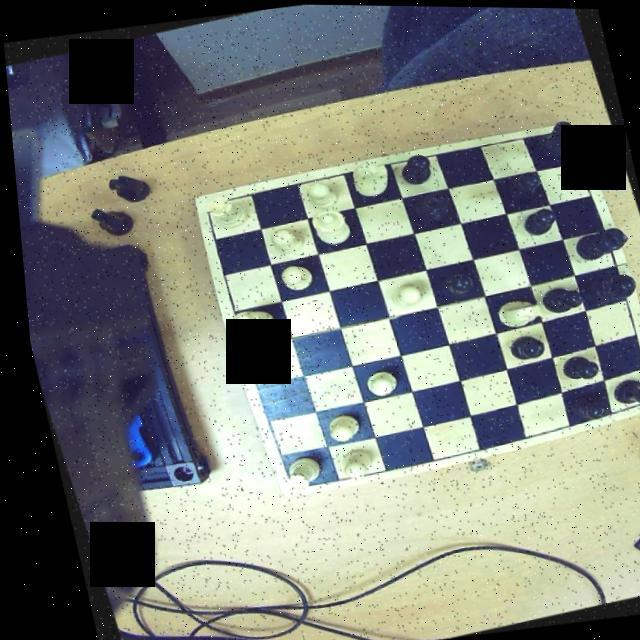chess-table-corners: (270, 469, 301, 495), (190, 194, 218, 218), (543, 120, 575, 140), (629, 382, 640, 405)
